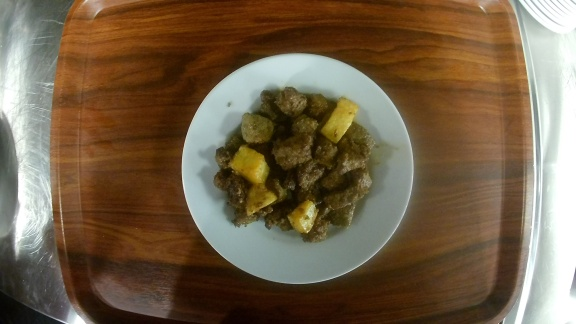arnavutcigeri: (179, 53, 416, 286)
